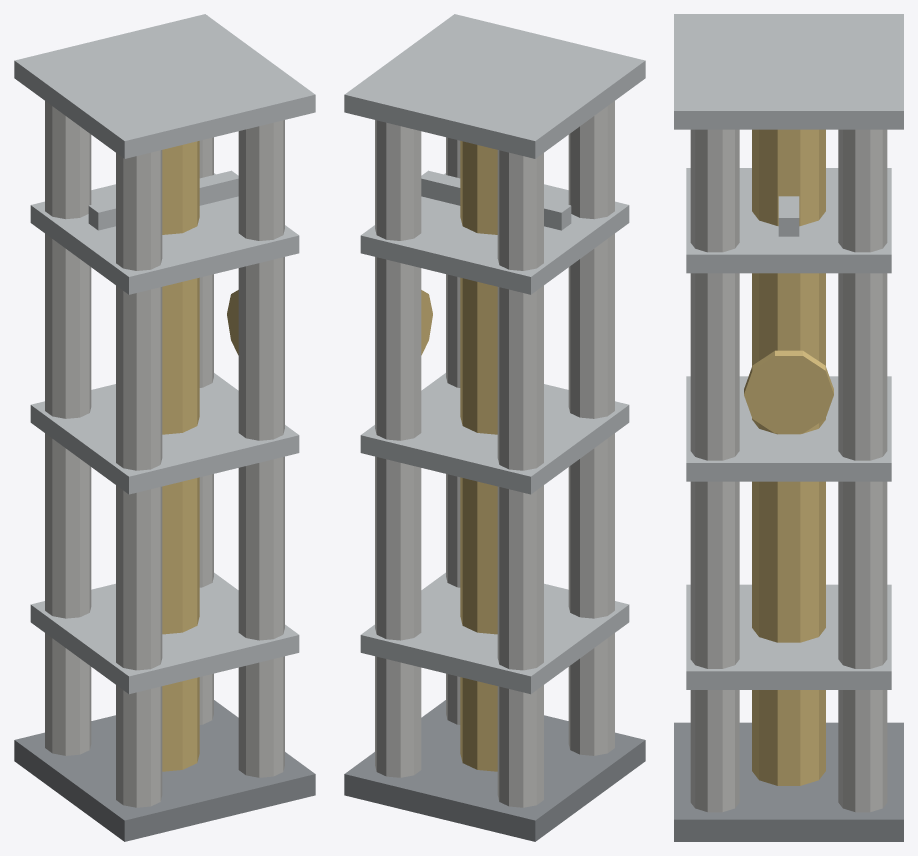
Rendered from P_riser_rack.fbx.
3 renders of one model, left to right at view 1: azimuth 30°, elevation 25°; view 2: azimuth 150°, elevation 25°; view 3: azimuth 270°, elevation 25°, orthographic. The views are drawn at different scales.
Visible parts, largest first — view 1: P_riser_rack; view 2: P_riser_rack; view 3: P_riser_rack.
Boxes of the visible parts, x1,y1,x2,y2 form: P_riser_rack: (14,14,315,841); P_riser_rack: (344,14,645,841); P_riser_rack: (674,14,903,841).
Bounding box in the file's own units: 0.56 × 1.97 × 0.56.
